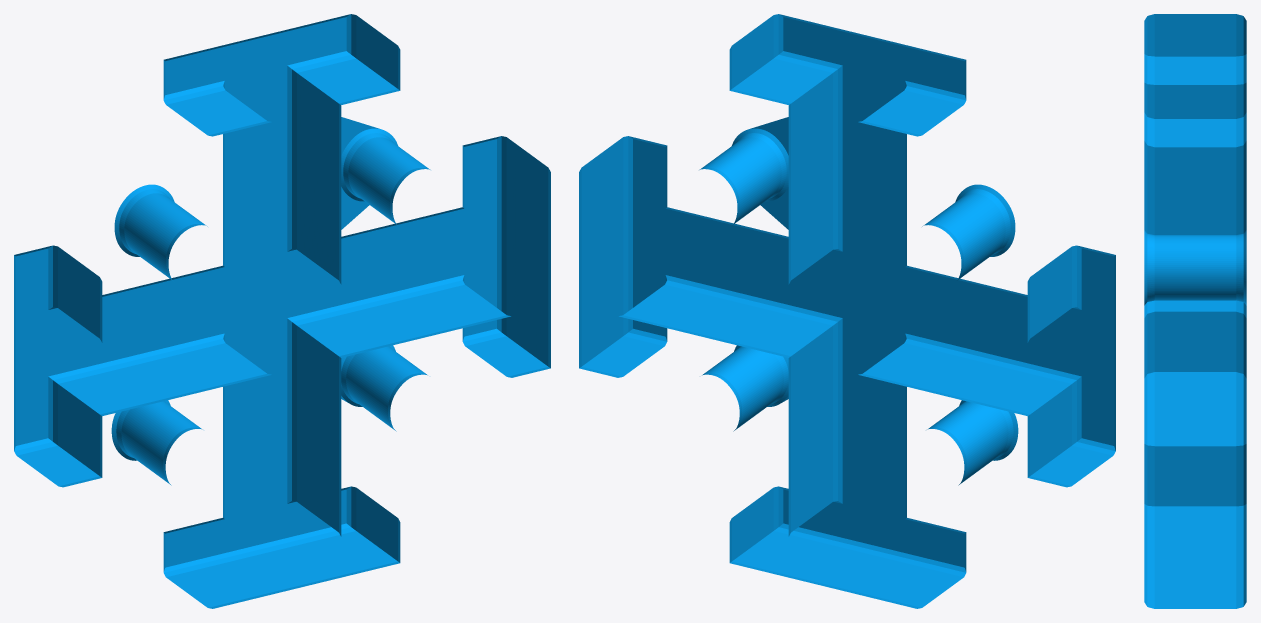
The model's file is glyph_everything.glb.
3 renders of one model, left to right at view 1: azimuth 30°, elevation 25°; view 2: azimuth 150°, elevation 25°; view 3: azimuth 270°, elevation 25°, orthographic. The views are drawn at different scales.
Size of the model in its own units: 54.09 by 54.4 by 10.
